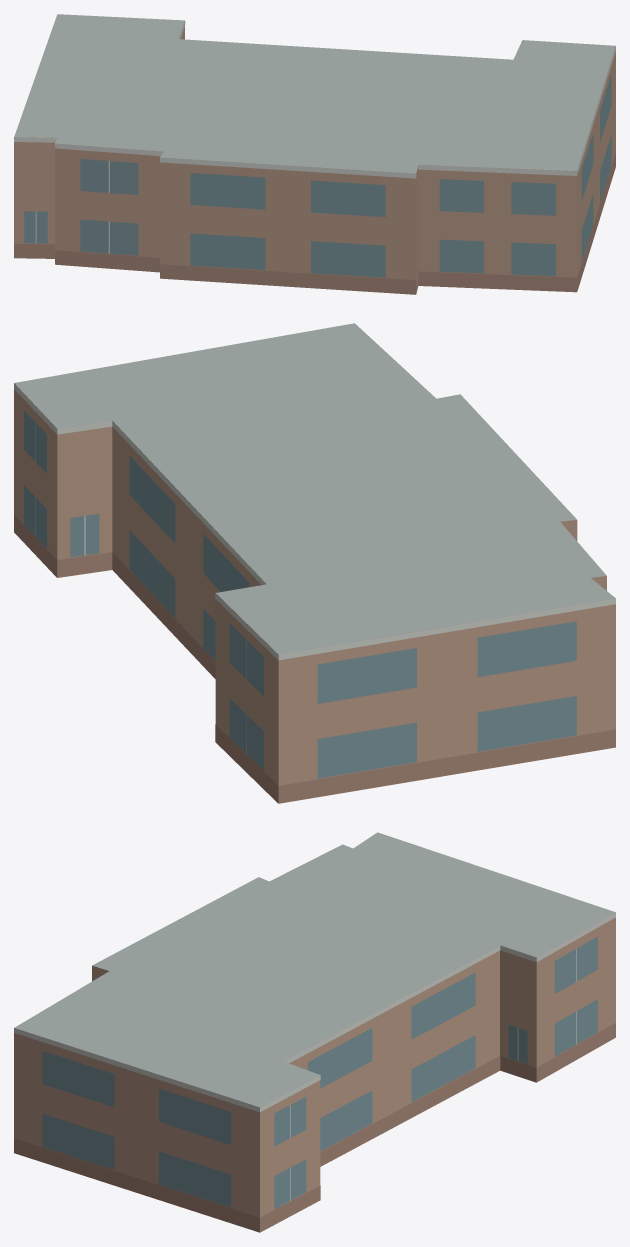
File: survey-upis-32866176.glb
The picture shows the model from 3 angles, top to bottom: view 1: azimuth 30°, elevation 25°; view 2: azimuth 150°, elevation 25°; view 3: azimuth 270°, elevation 25°; orthographic projection. The views are drawn at different scales.
Parts seen in each view (by area): view 1: survey-upis-32866176.tmp; view 2: survey-upis-32866176.tmp; view 3: survey-upis-32866176.tmp.
Boxes of the visible parts, box(x1,y1,x2,y2) form: survey-upis-32866176.tmp: box(14, 14, 615, 294); survey-upis-32866176.tmp: box(14, 323, 615, 803); survey-upis-32866176.tmp: box(14, 832, 615, 1232).
Bounding box in the file's own units: 28.74 × 6.1 × 26.57.
